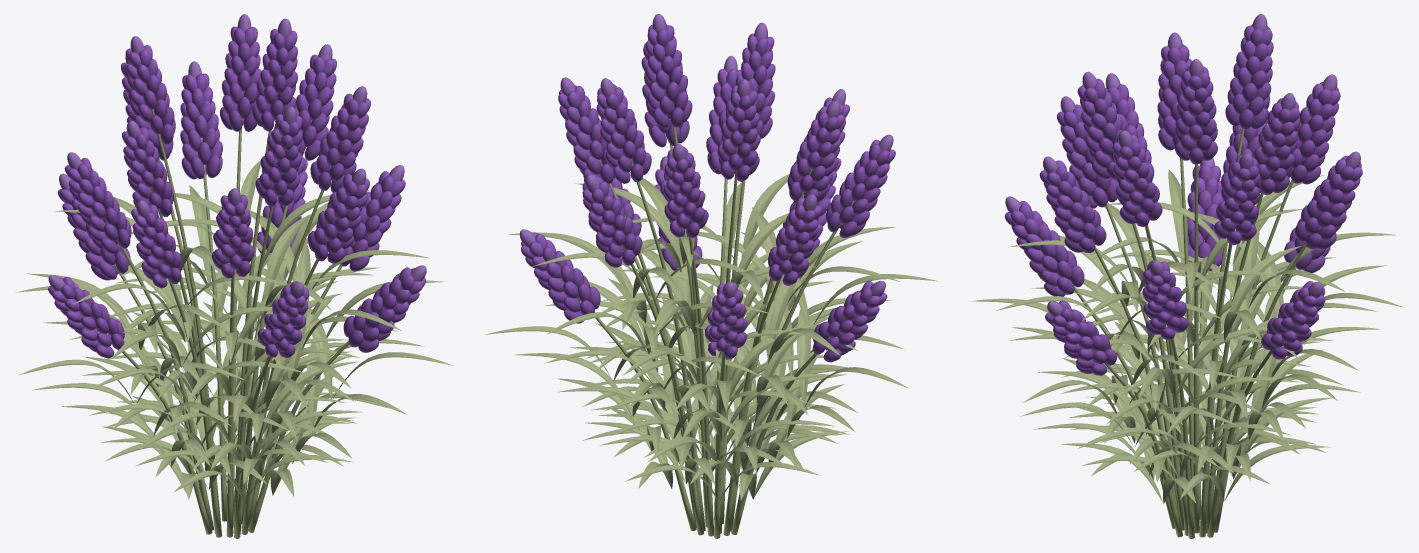
Rendered from lavender_mature.glb.
3 views of the same model, side by side, from view 1: azimuth 30°, elevation 25°; view 2: azimuth 150°, elevation 25°; view 3: azimuth 270°, elevation 25° (orthographic).
Visible parts, largest first — view 1: flowers, leaves, stems; view 2: flowers, leaves, stems; view 3: flowers, leaves, stems.
Part boxes in pixels (x1,y1,x2,y2): flowers: [48, 14, 426, 358]; leaves: [15, 160, 452, 502]; stems: [104, 91, 383, 538]; flowers: [520, 14, 895, 362]; leaves: [484, 171, 938, 501]; stems: [560, 126, 854, 538]; flowers: [1005, 14, 1362, 375]; leaves: [971, 169, 1403, 503]; stems: [1074, 103, 1309, 538].
Size of the model in its own units: 0.7637 by 0.9268 by 0.735.
